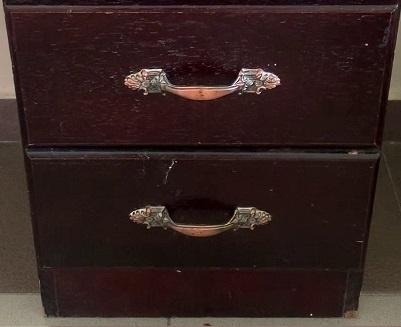cabinet_door: (33, 153, 368, 315), (15, 5, 389, 148)
handle: (121, 65, 284, 107), (126, 202, 276, 241)
